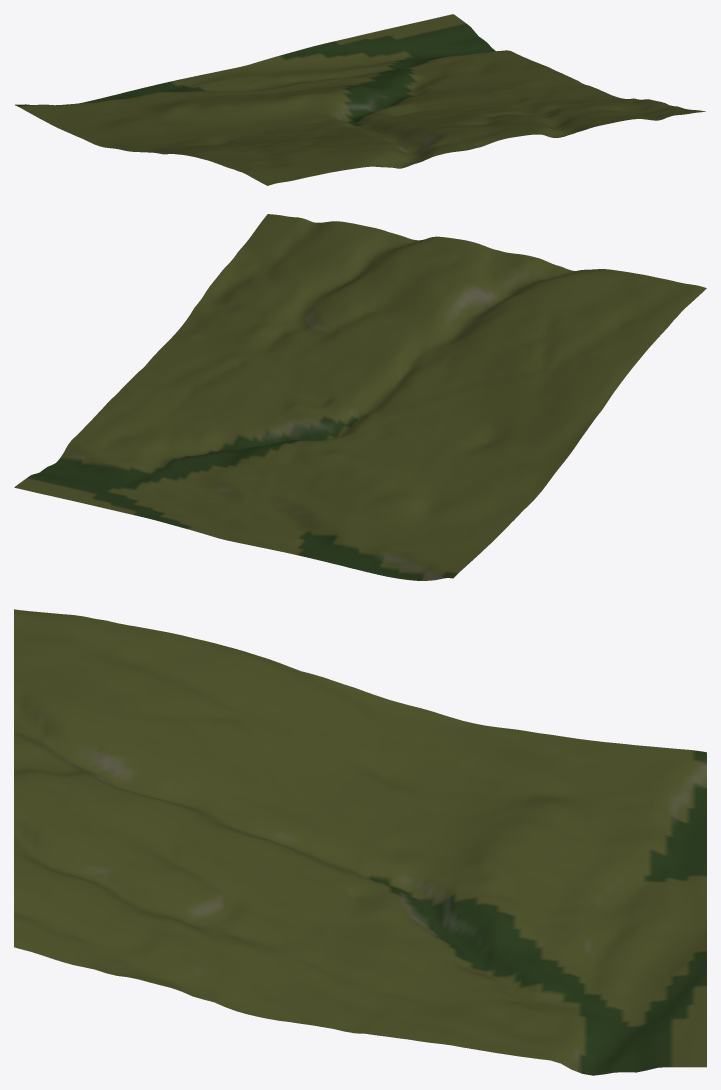
Rendered from terrain_13_-10.glb.
3 renders of one model, top to bottom at view 1: azimuth 30°, elevation 25°; view 2: azimuth 150°, elevation 25°; view 3: azimuth 270°, elevation 25°, orthographic. The views are drawn at different scales.
Parts seen in each view (by area): view 1: terrain_13_-10; view 2: terrain_13_-10; view 3: terrain_13_-10.
Boxes of the visible parts, x1=… form: terrain_13_-10: x1=15, y1=14, x2=705, y2=185; terrain_13_-10: x1=14, y1=214, x2=706, y2=580; terrain_13_-10: x1=14, y1=609, x2=706, y2=1075.
Size of the model in its own units: 256 by 70.95 by 256.
